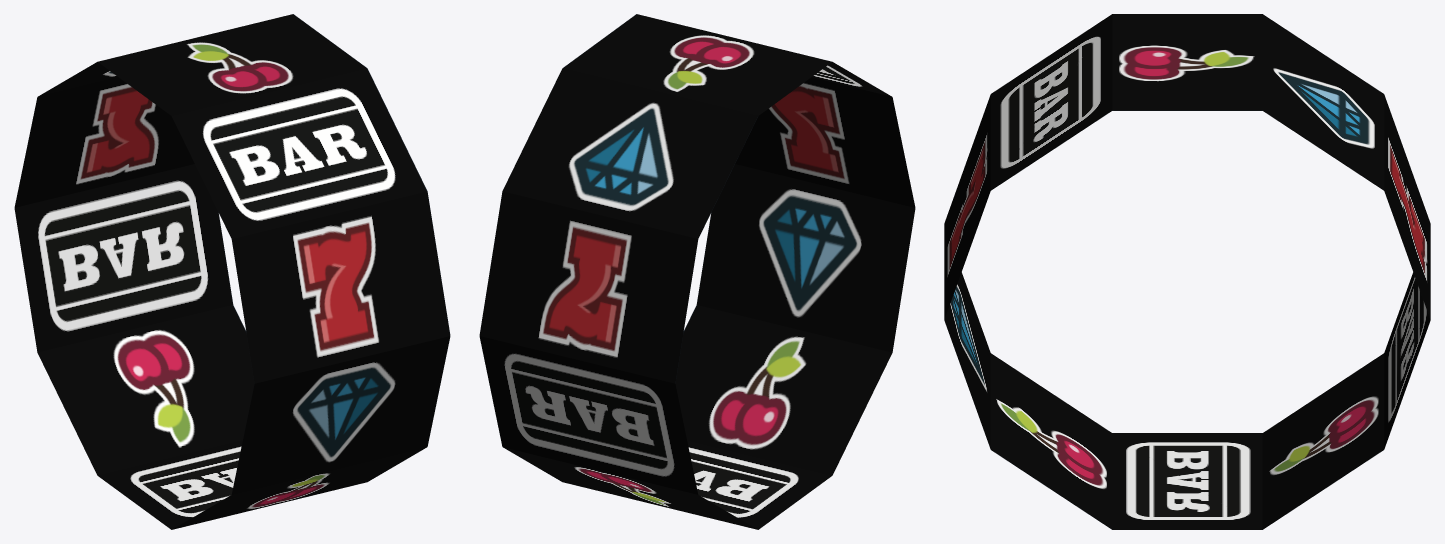
The model's file is slotMachineWheel_1.gltf.
The picture shows the model from 3 angles, left to right: view 1: azimuth 30°, elevation 25°; view 2: azimuth 150°, elevation 25°; view 3: azimuth 270°, elevation 25°; orthographic projection.
Visible parts, largest first — view 1: NewWheel; view 2: NewWheel; view 3: NewWheel.
Part boxes in pixels (bbox=[...]): NewWheel: bbox=[14, 14, 450, 529]; NewWheel: bbox=[479, 14, 915, 529]; NewWheel: bbox=[944, 14, 1430, 529].
Size of the model in its own units: 0.3289 by 0.6638 by 0.698.
1 material, 1 textured.
